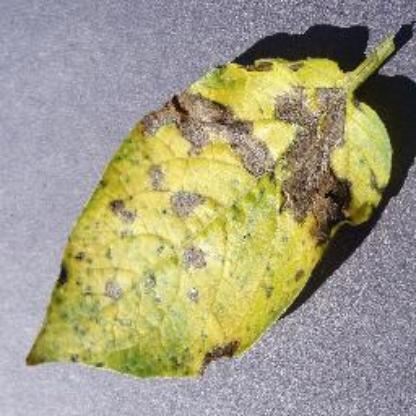Early-Blight: (25, 29, 405, 383)
